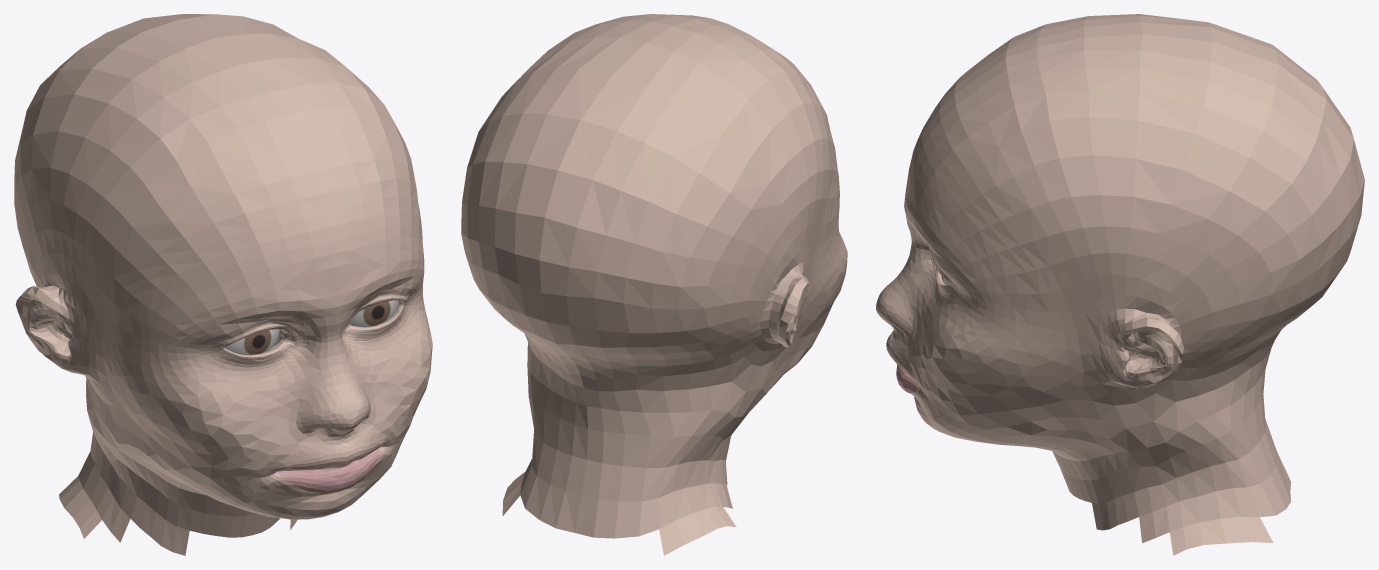
File: karma_face_MH_neutral_AF.glb
3 renders of one model, left to right at view 1: azimuth 30°, elevation 25°; view 2: azimuth 150°, elevation 25°; view 3: azimuth 270°, elevation 25°, orthographic. The views are drawn at different scales.
Visible parts, largest first — view 1: head; view 2: head; view 3: head.
Part boxes in pixels (left/top/right/bottom): head: left=14, top=14, right=432, bottom=555; head: left=461, top=14, right=847, bottom=555; head: left=876, top=14, right=1364, bottom=555.
Size of the model in its own units: 3.03 by 3.91 by 3.68.
